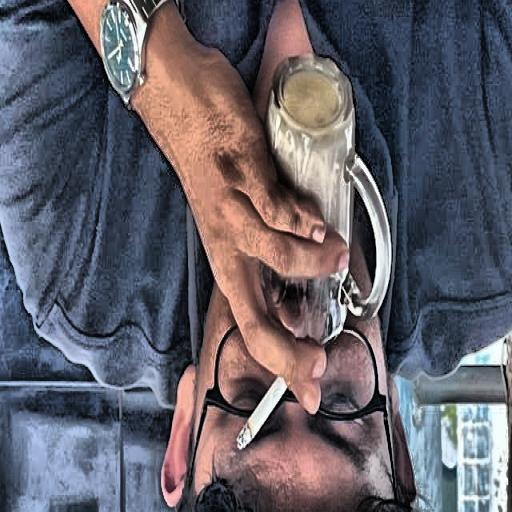Merokok: (237, 378, 286, 449)
Rokok: (133, 0, 390, 512)
